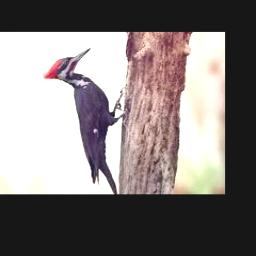Woodpecker: (43, 47, 126, 194)
